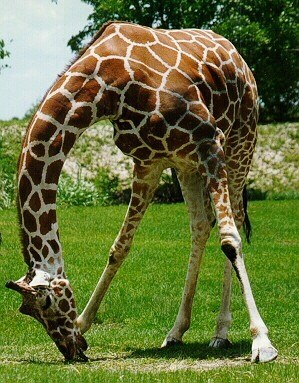Jirafa: (1, 64, 122, 370)
